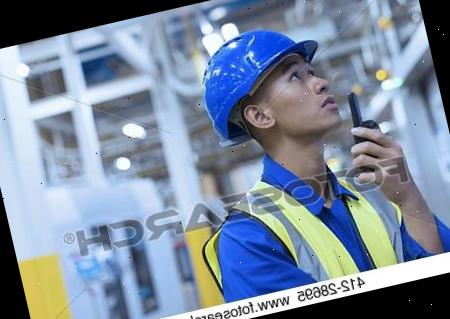helmet: (187, 14, 336, 158)
wear: (212, 163, 429, 319)
